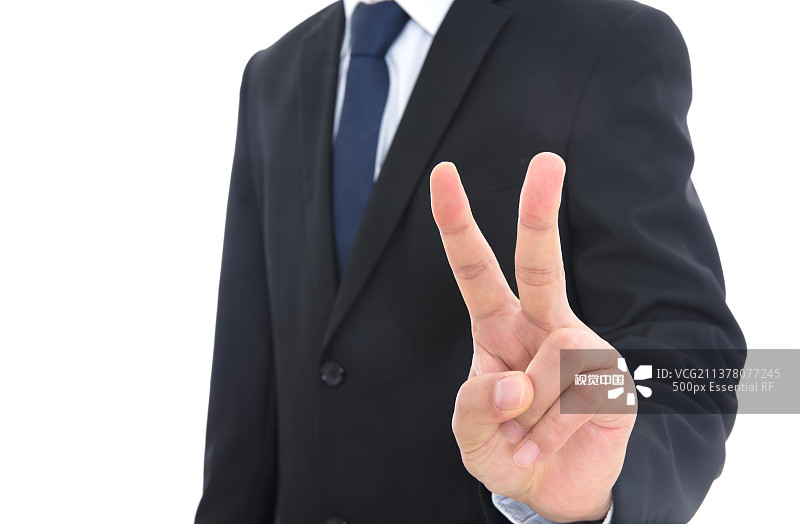no-phone: (407, 136, 642, 520)
